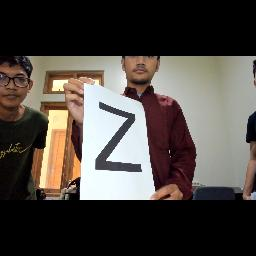z: (88, 98, 144, 182)
